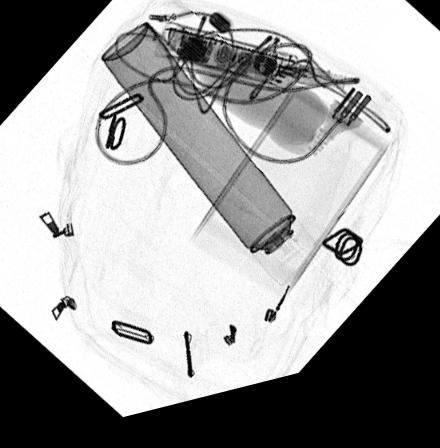Sprayer: (102, 27, 321, 301)
